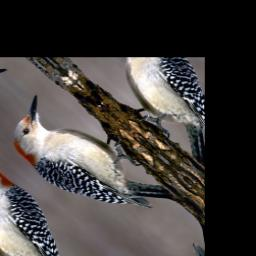Woodpecker: (0, 79, 176, 243)
